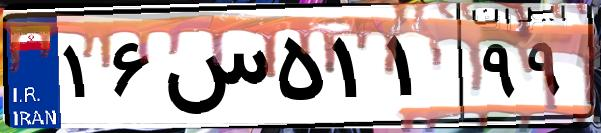1: (385, 28, 445, 110), (330, 28, 385, 110), (57, 26, 110, 100)
5: (270, 28, 330, 110)
6: (110, 28, 158, 98)
9: (475, 38, 525, 113), (525, 38, 570, 115)
س: (158, 20, 270, 120)
